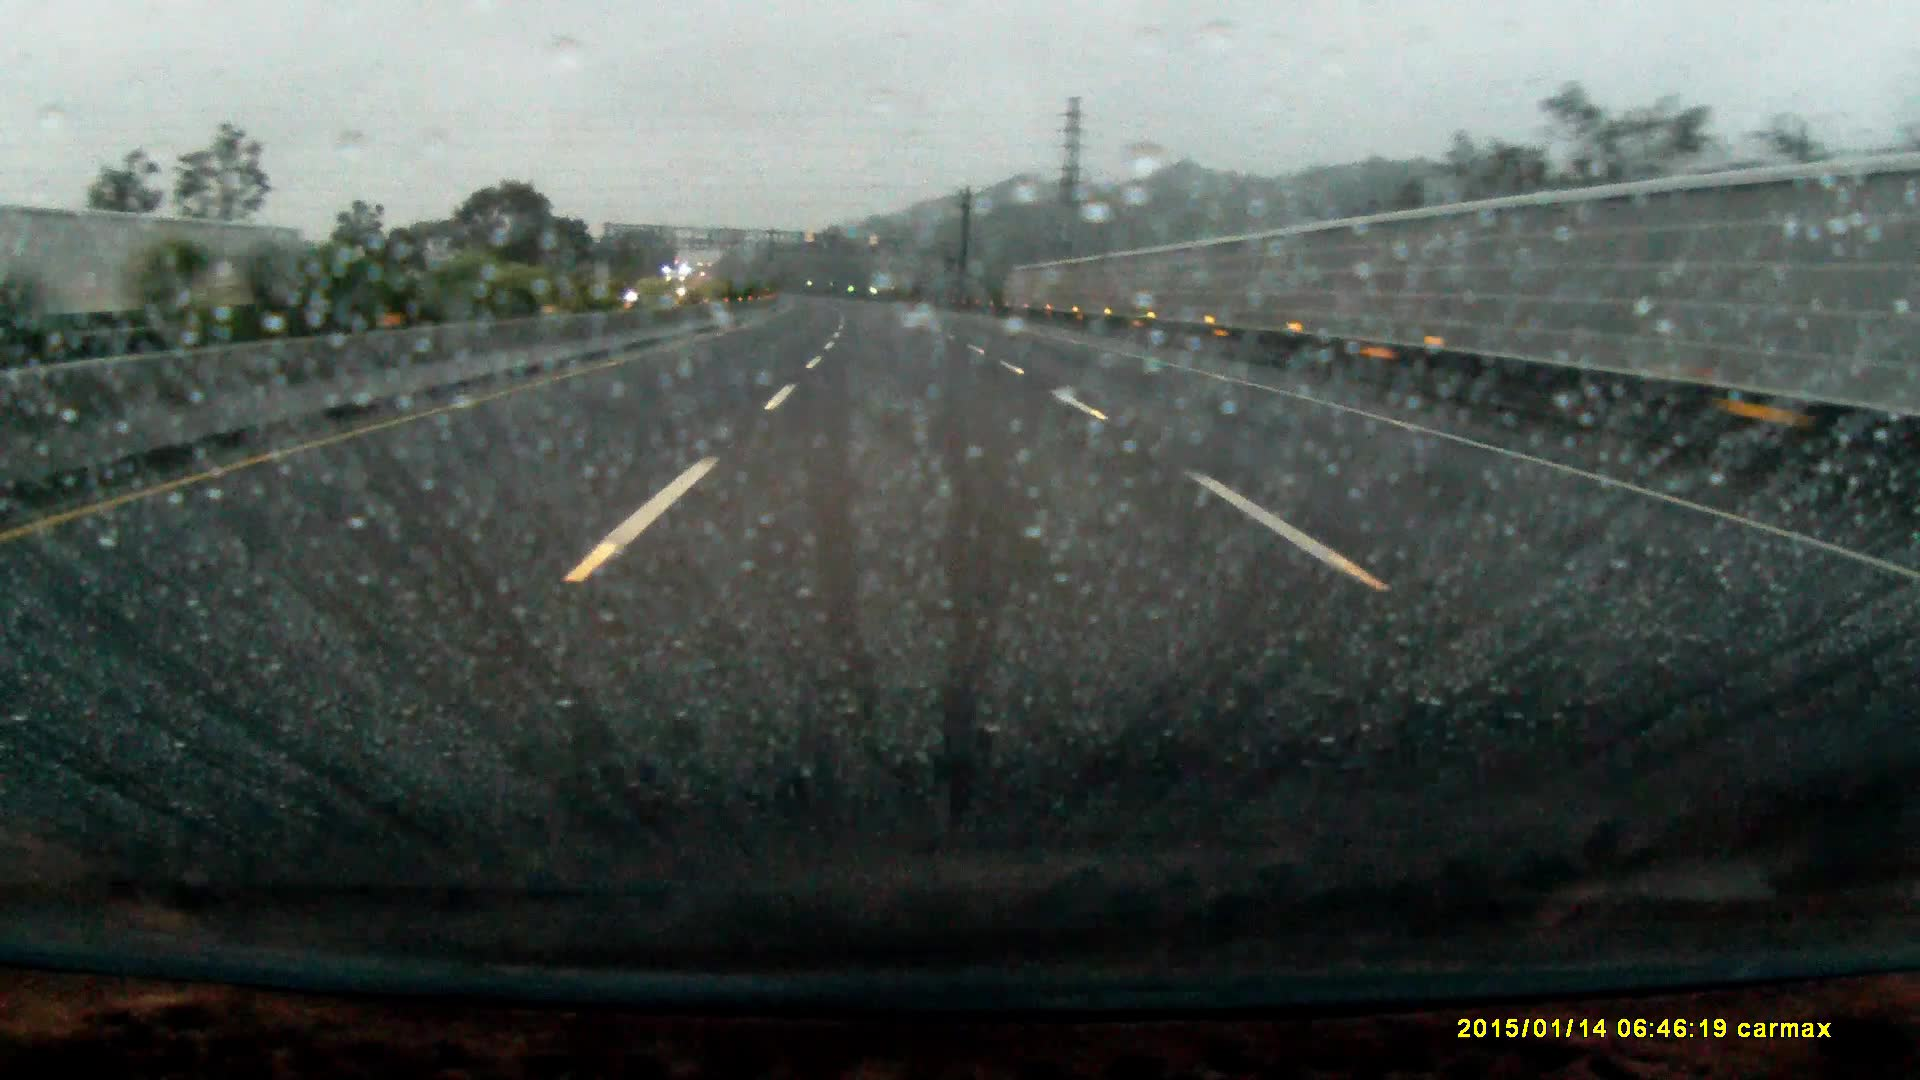vehicle: (659, 269, 698, 303)
